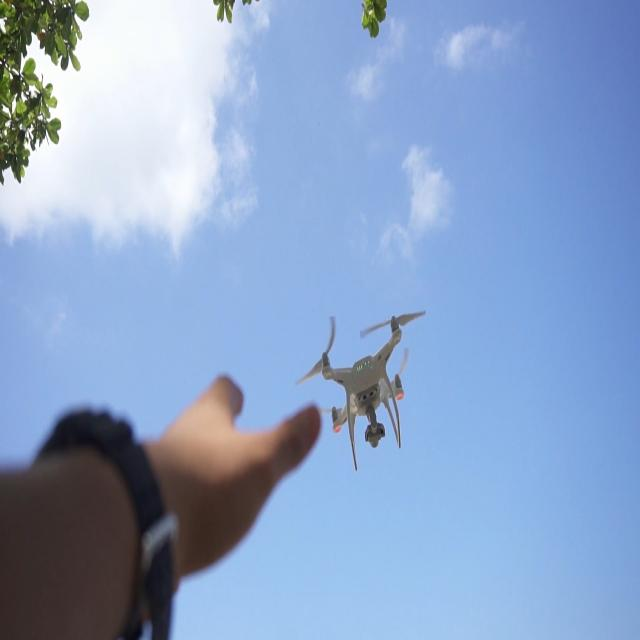Drone: (296, 310, 424, 466)
